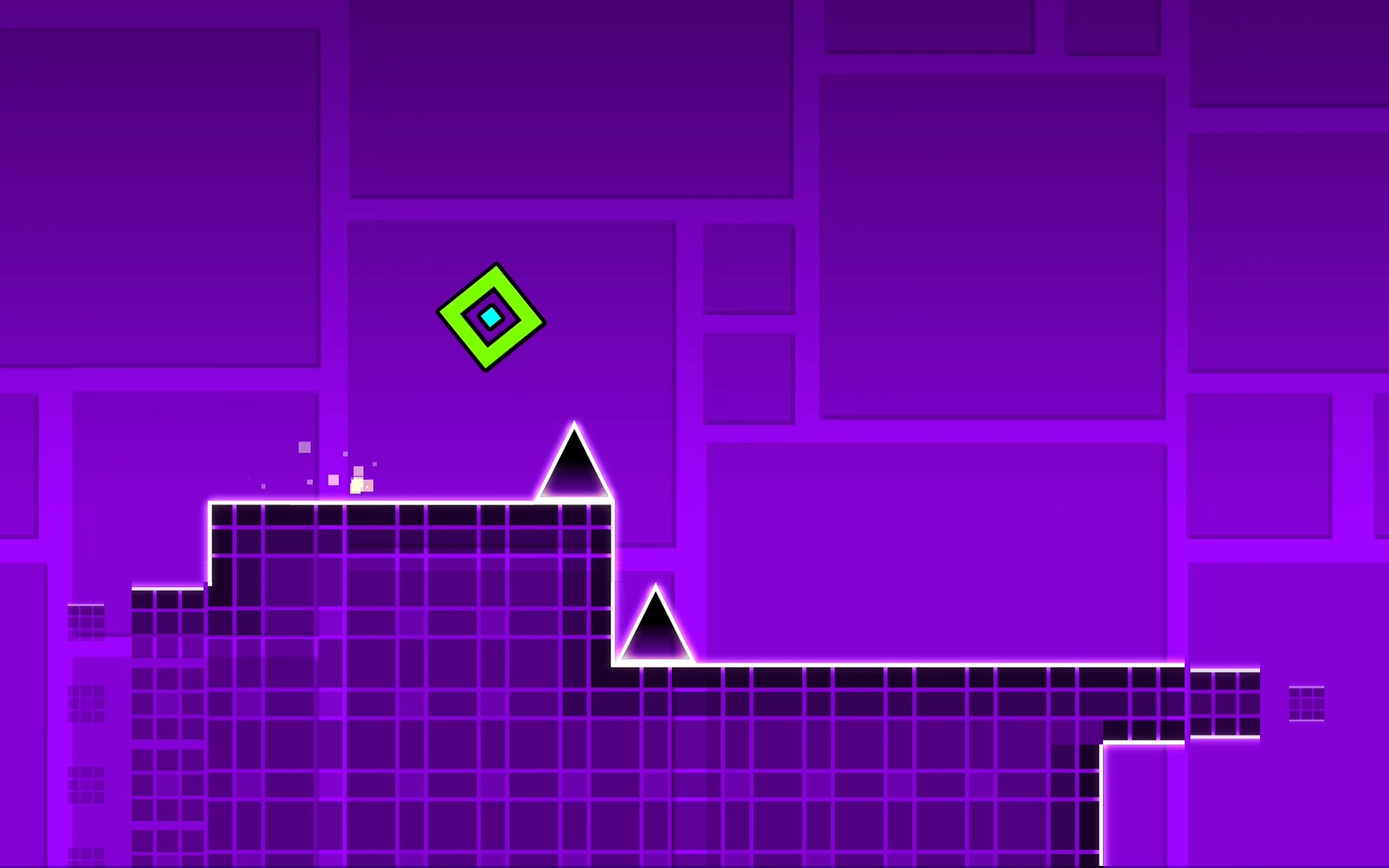Block2: (118, 660, 1100, 868), (123, 500, 610, 865), (1109, 668, 1269, 744)
Player: (436, 265, 544, 371)
Spike: (536, 424, 612, 503), (620, 584, 696, 663)
